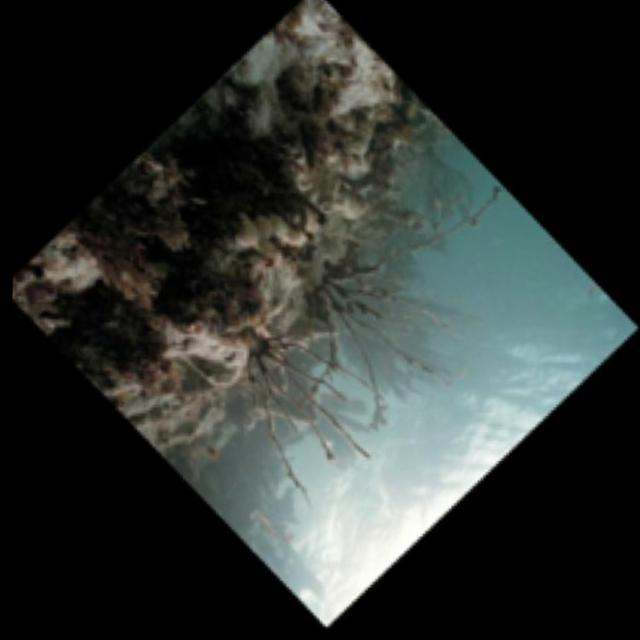Dead Coral: (55, 150, 288, 344)
